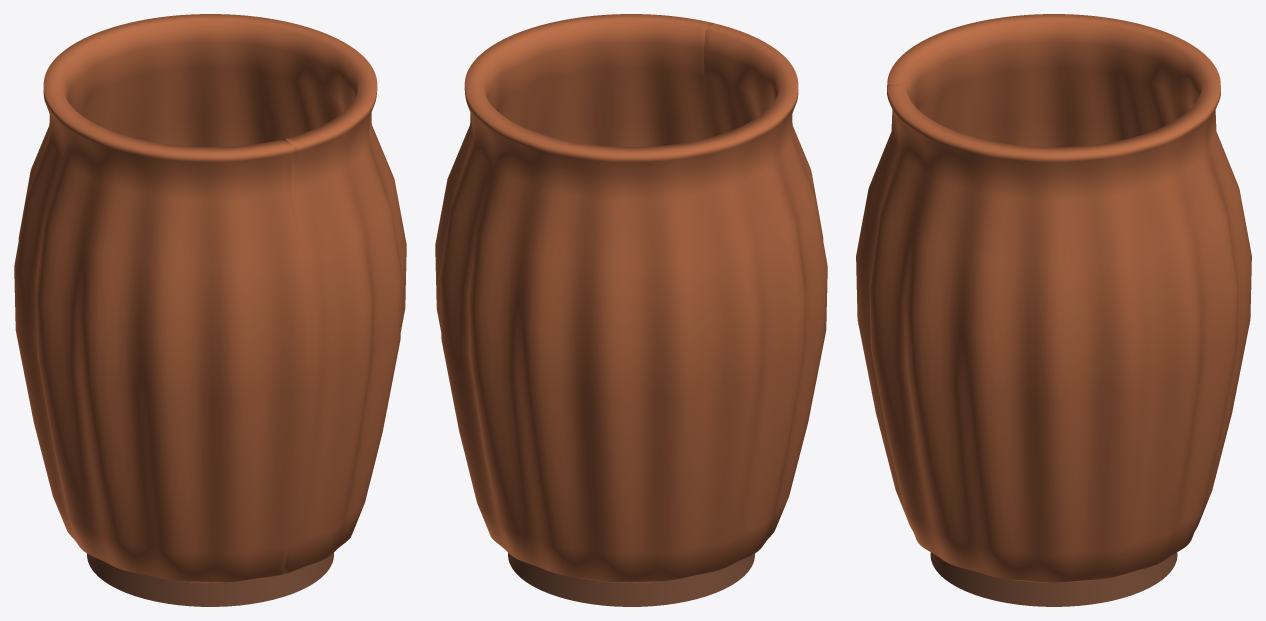
Rendered from fold-vessel.glb.
The picture shows the model from 3 angles, left to right: view 1: azimuth 30°, elevation 25°; view 2: azimuth 150°, elevation 25°; view 3: azimuth 270°, elevation 25°; orthographic projection.
Parts seen in each view (by area): view 1: Folded vessel, Clay foot; view 2: Folded vessel, Clay foot; view 3: Folded vessel, Clay foot.
Boxes of the visible parts, bbox=[...] form: Folded vessel: bbox=[14, 14, 406, 582]; Clay foot: bbox=[87, 552, 333, 606]; Folded vessel: bbox=[435, 14, 827, 582]; Clay foot: bbox=[508, 552, 754, 606]; Folded vessel: bbox=[856, 14, 1251, 582]; Clay foot: bbox=[930, 552, 1177, 606].
Size of the model in its own units: 0.9614 by 1.26 by 0.9614.
